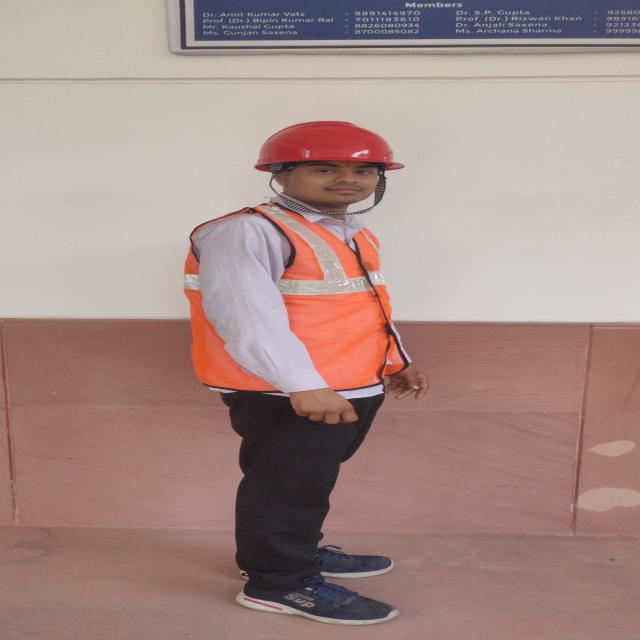safe: (190, 121, 423, 624)
